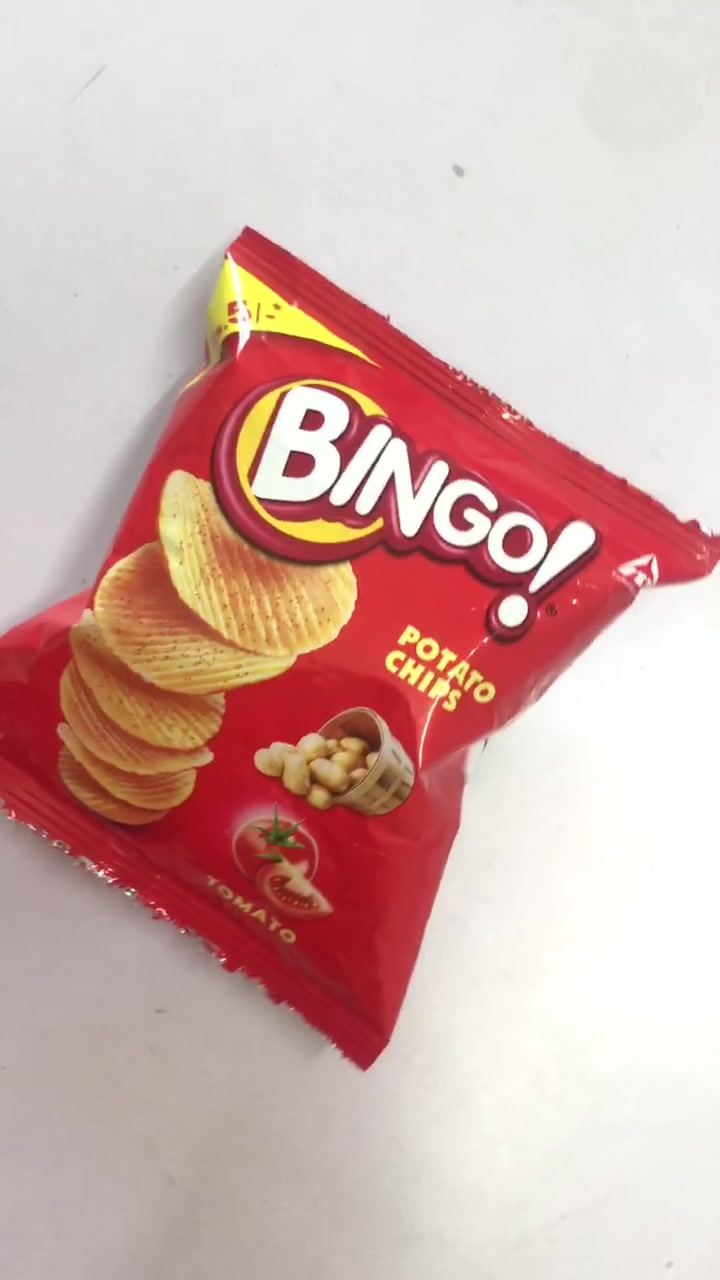Bingo: (9, 230, 705, 1064)
